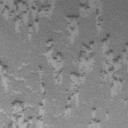oxide scale of temperature system: (64, 32, 128, 115), (0, 82, 46, 128), (0, 0, 57, 34), (66, 0, 103, 46), (43, 38, 64, 89), (0, 60, 26, 90), (88, 108, 100, 128), (38, 64, 43, 80), (124, 98, 128, 105)
